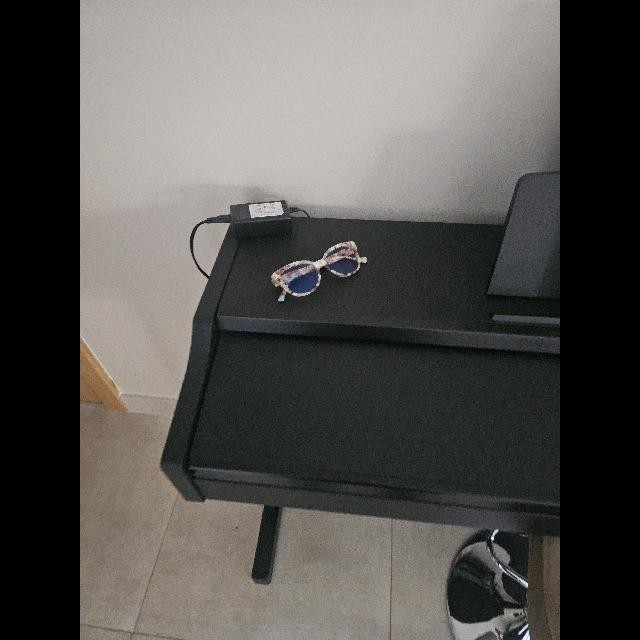glasses: (271, 242, 367, 302)
